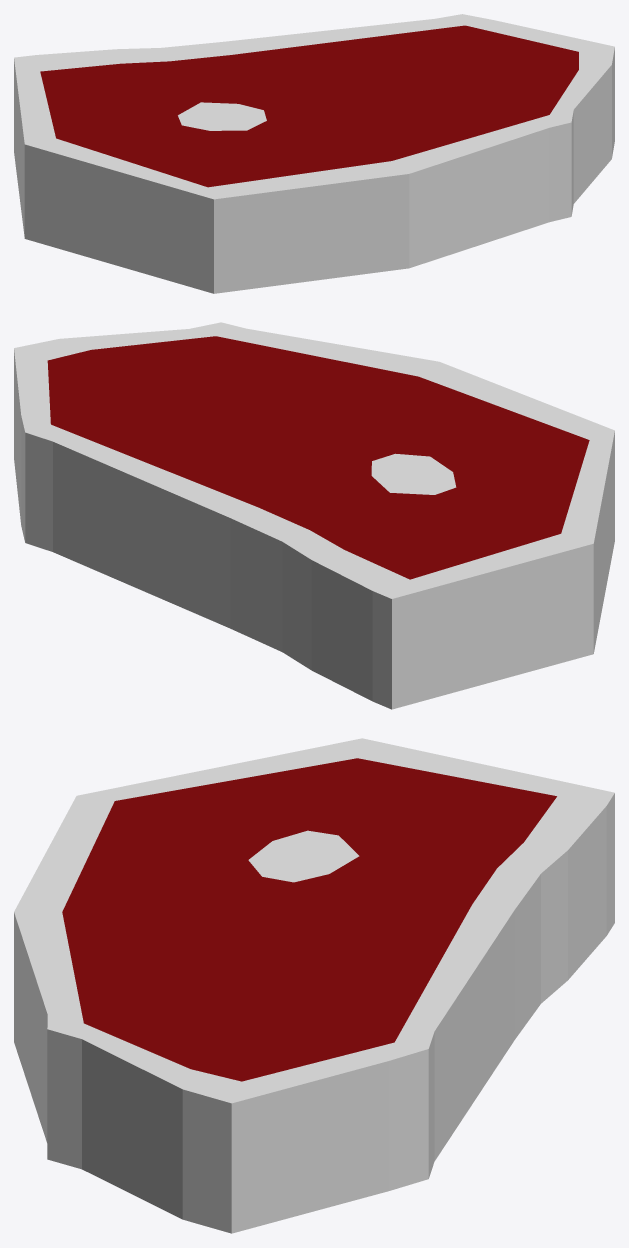
Rendered from RawSteak.fbx.
3 renders of one model, top to bottom at view 1: azimuth 30°, elevation 25°; view 2: azimuth 150°, elevation 25°; view 3: azimuth 270°, elevation 25°, orthographic. The views are drawn at different scales.
Visible parts, largest first — view 1: RawSteak; view 2: RawSteak; view 3: RawSteak.
Part boxes in pixels (x1,y1,x2,y2): RawSteak: [14, 14, 614, 293]; RawSteak: [14, 322, 614, 709]; RawSteak: [14, 738, 614, 1233].
Bounding box in the file's own units: 308 × 51.28 × 214.
